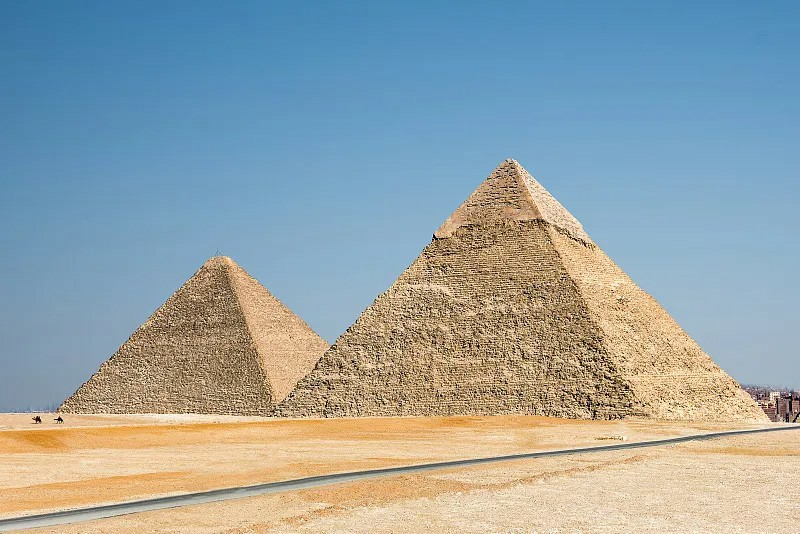Pyramid: (273, 158, 771, 423), (57, 253, 330, 416)
